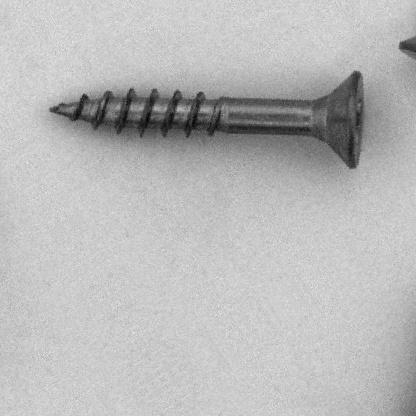metal: (49, 67, 367, 170)
